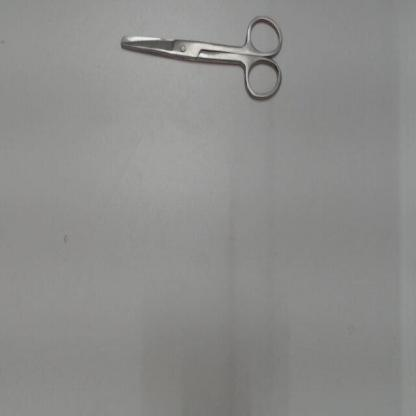Dressing Scissors: (110, 8, 291, 112)
